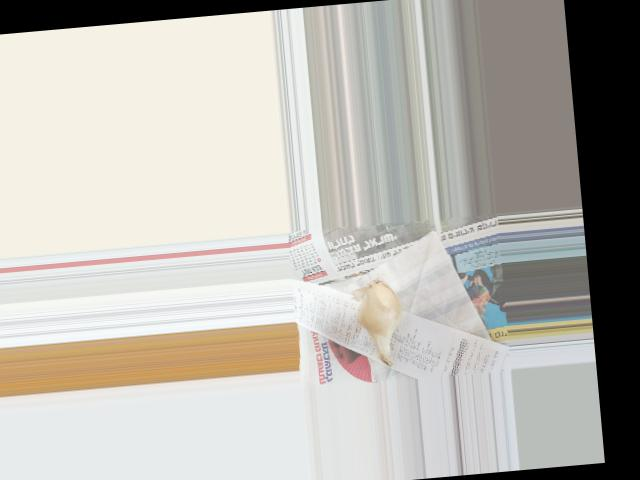onion: (357, 281, 406, 345)
